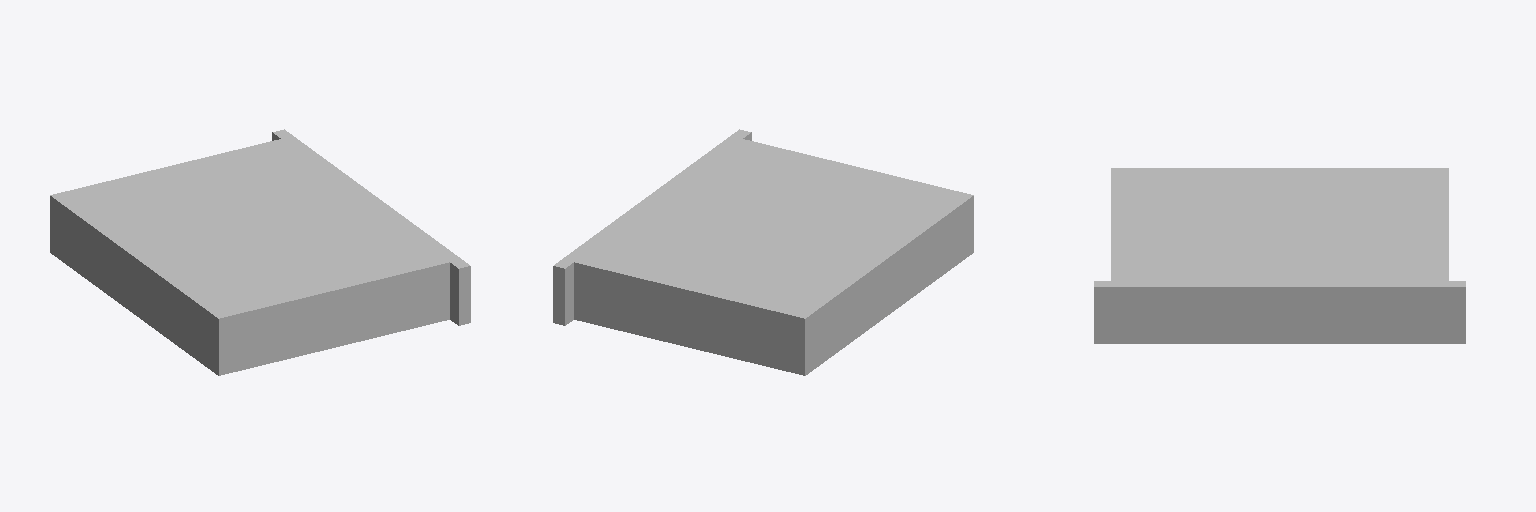
Rendered from (19) Storwize V7000.obj.
3 renders of one model, left to right at view 1: azimuth 30°, elevation 25°; view 2: azimuth 150°, elevation 25°; view 3: azimuth 270°, elevation 25°, orthographic.
Parts seen in each view (by area): view 1: unit_Cube.001; view 2: unit_Cube.001; view 3: unit_Cube.001.
Part boxes in pixels (bbox=[...]): unit_Cube.001: bbox=[50, 129, 470, 375]; unit_Cube.001: bbox=[553, 129, 973, 375]; unit_Cube.001: bbox=[1094, 168, 1465, 343].
Size of the model in its own units: 0.4 by 0.09 by 0.53.